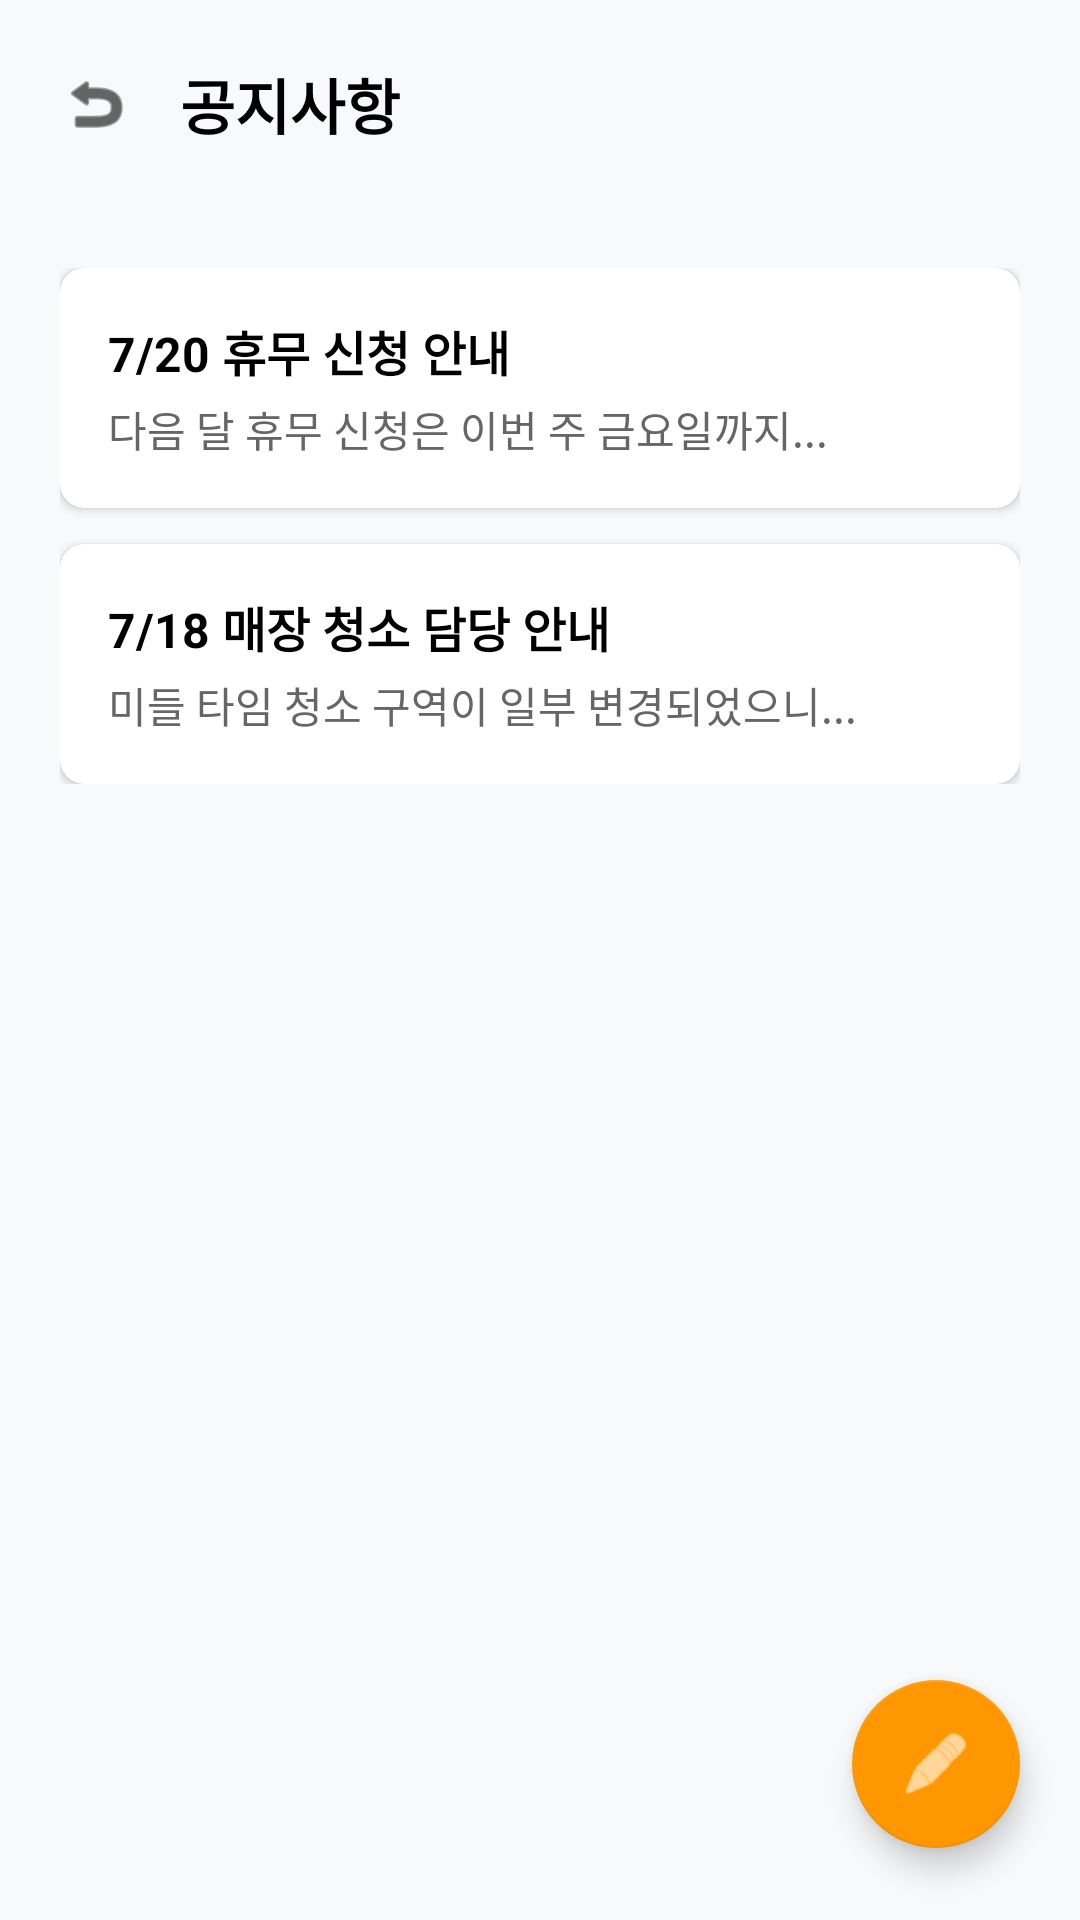

Icons on this 1080*1920 Android screen, each with the point to tap as [x,y]:
revert: [97,104]
공지사항 작성: [936,1764]
